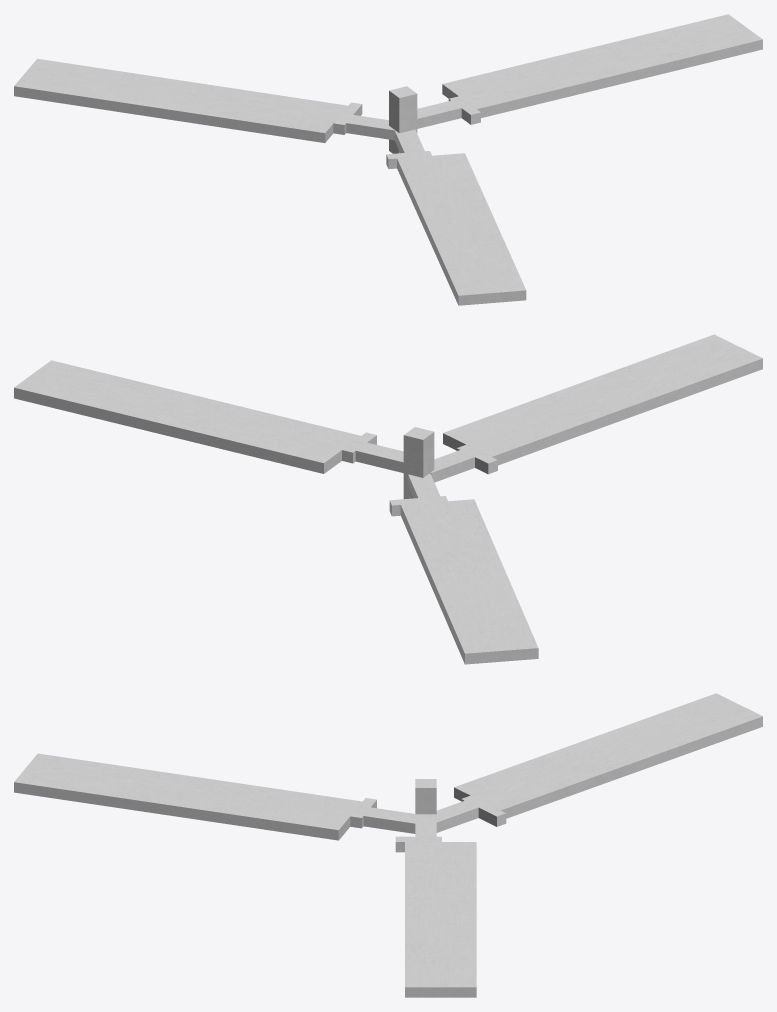
File: propeller2_Untitled.glb
3 renders of one model, top to bottom at view 1: azimuth 30°, elevation 25°; view 2: azimuth 150°, elevation 25°; view 3: azimuth 270°, elevation 25°, orthographic. The views are drawn at different scales.
Parts seen in each view (by area): view 1: propeller_; view 2: propeller_; view 3: propeller_.
Part boxes in pixels (box(x1,y1,x2,y2)): propeller_: box(14, 14, 762, 305); propeller_: box(14, 334, 762, 664); propeller_: box(14, 693, 762, 997).
Size of the model in its own units: 14.34 by 1.38 by 14.9.
Materials: 1 (1 with a texture image).
